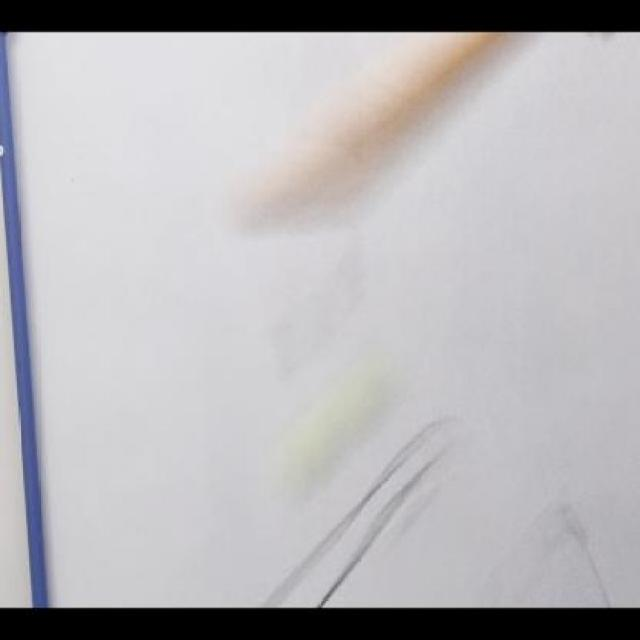baseball: (275, 339, 411, 504)
